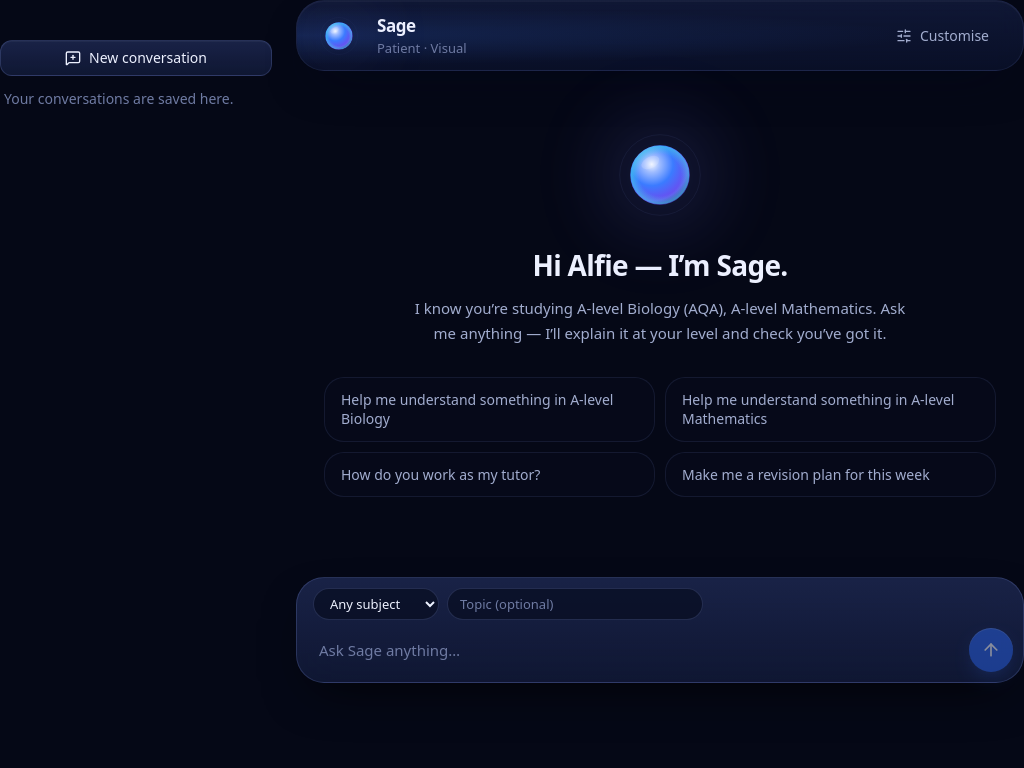
Scenario: Tutor workspace › sends a message, streams the reply and files the new conversation
Select "Biology" in the dropdown named "Subject": point(376, 604) [313,588,439,620]
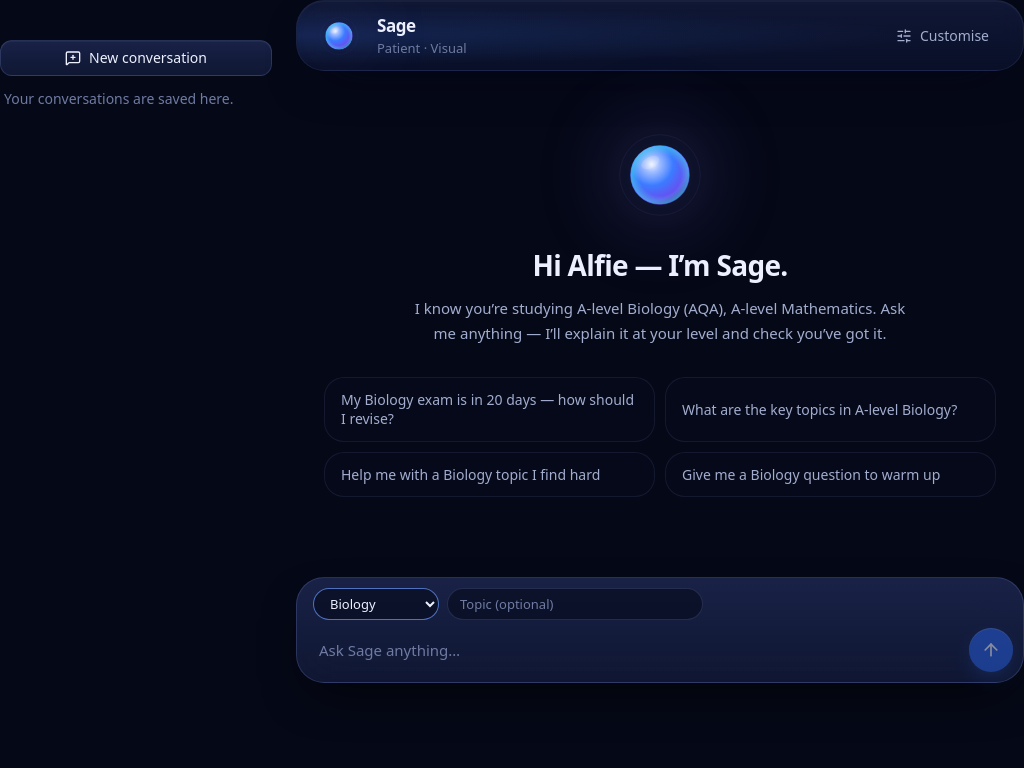
In the field labelled "Topic (optional)": point(575, 604) [447,588,703,620], type "Osmosis"
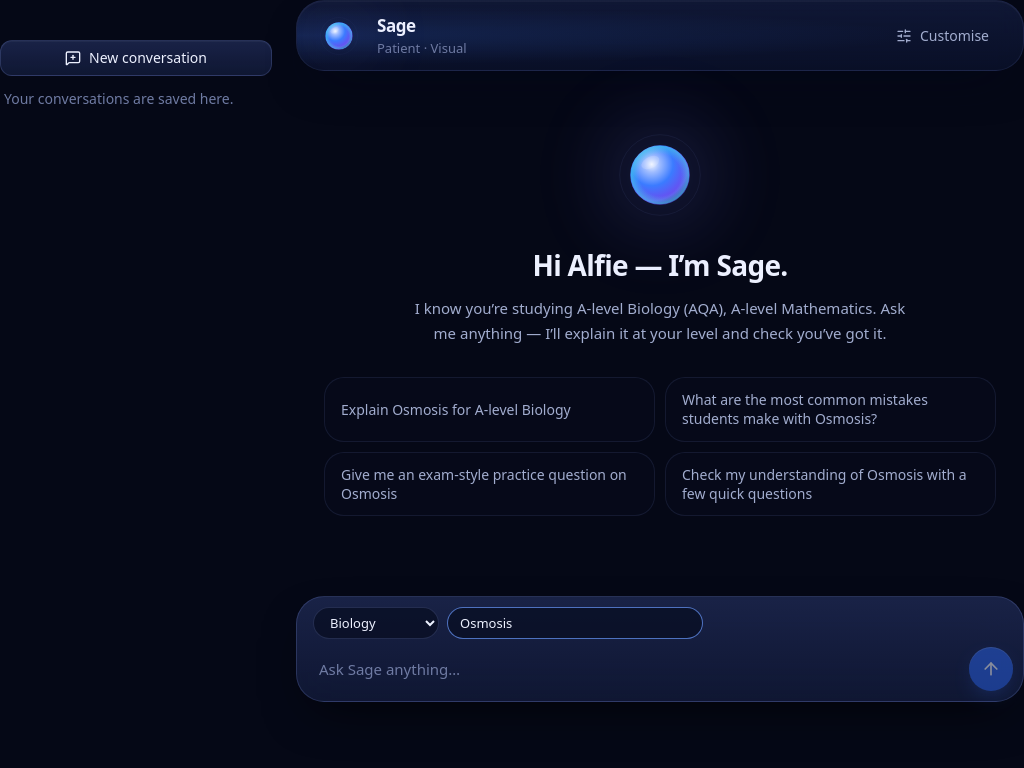
In the text box named "Message Sage": point(634, 669) [307,647,961,691], type "What is osmosis?"
Then press Enter
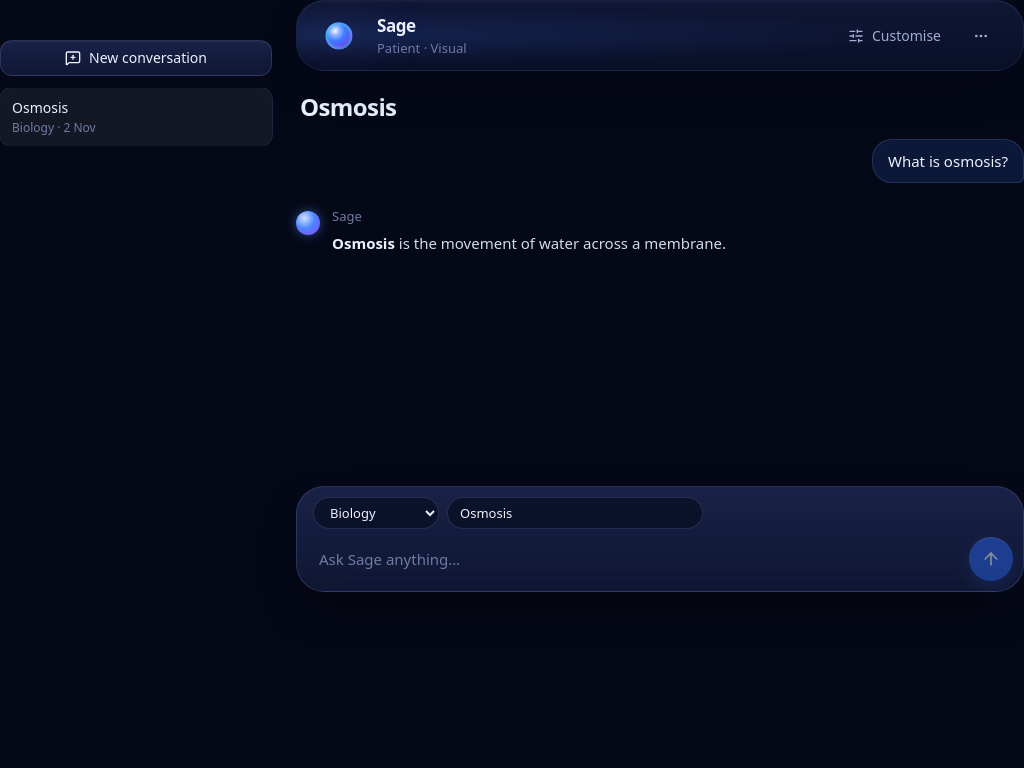
expect the 2nd text "Osmosis" is shown: met, box [332,233,395,253]
expect the text "water across a membrane." is shown: met, box [395,233,726,253]
expect the text "What is osmosis?" is shown: met, box [872,139,1023,183]
